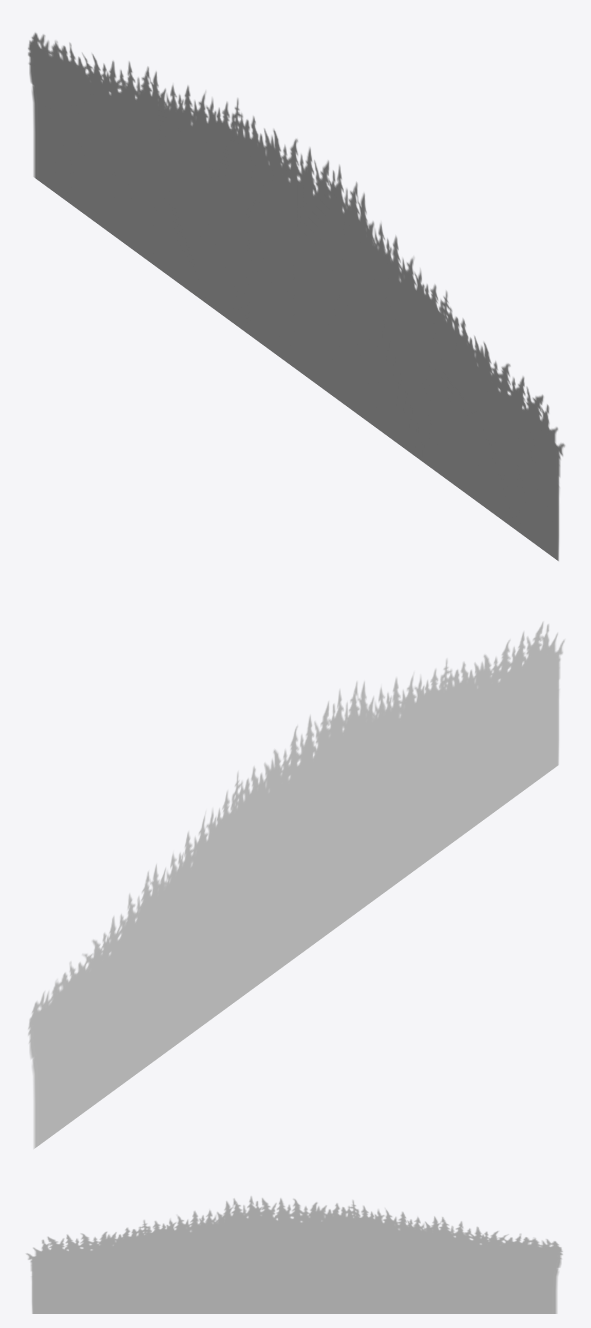
3 views of the same model, one above another, from view 1: azimuth 30°, elevation 25°; view 2: azimuth 150°, elevation 25°; view 3: azimuth 270°, elevation 25° (orthographic). The views are drawn at different scales.
Visible parts, largest first — view 1: body0_model0_lod0_mesh0; view 2: body0_model0_lod0_mesh0; view 3: body0_model0_lod0_mesh0.
Part boxes in pixels (x1,y1,x2,y2): body0_model0_lod0_mesh0: (28, 32, 565, 560); body0_model0_lod0_mesh0: (28, 621, 565, 1148); body0_model0_lod0_mesh0: (26, 1196, 562, 1313).
Size of the model in its own units: 0 by 122 by 512.
1 material, 1 textured.
